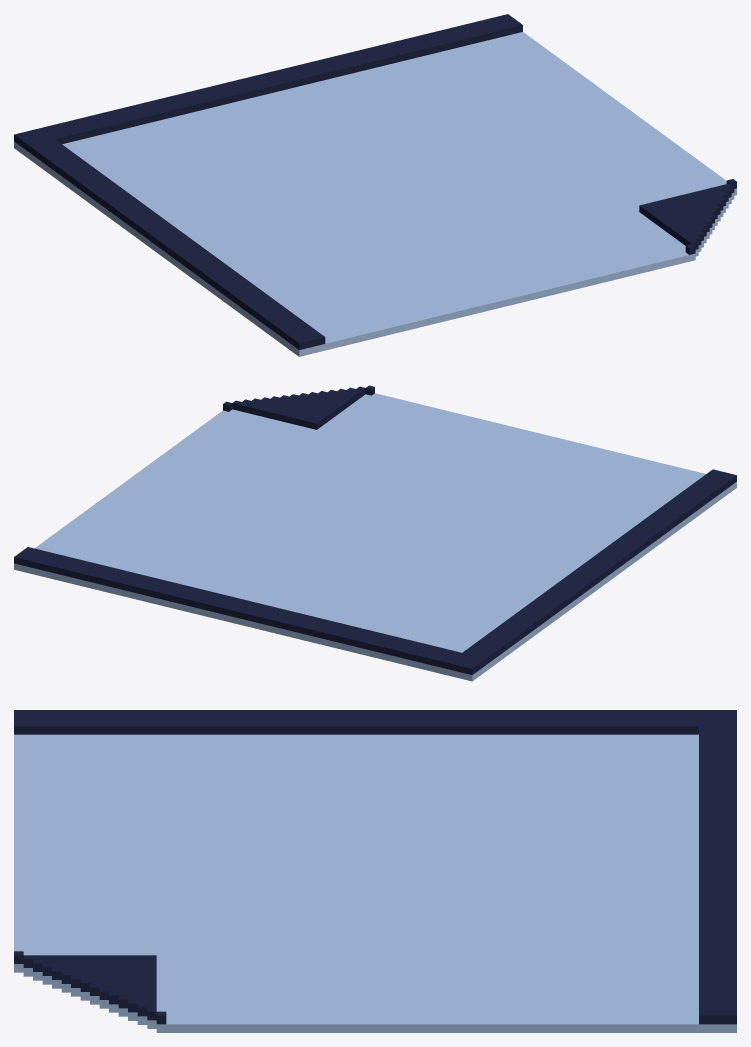
The model's file is cotton_patchwork.glb.
3 views of the same model, one above another, from view 1: azimuth 30°, elevation 25°; view 2: azimuth 150°, elevation 25°; view 3: azimuth 270°, elevation 25° (orthographic). The views are drawn at different scales.
Parts seen in each view (by area): view 1: cotton_patchwork:compound; view 2: cotton_patchwork:compound; view 3: cotton_patchwork:compound.
Boxes of the visible parts, box(x1,y1,x2,y2) form: cotton_patchwork:compound: box(14, 14, 736, 356); cotton_patchwork:compound: box(14, 385, 736, 681); cotton_patchwork:compound: box(14, 710, 736, 1032).
Size of the model in its own units: 0.152 by 0.004 by 0.152.
